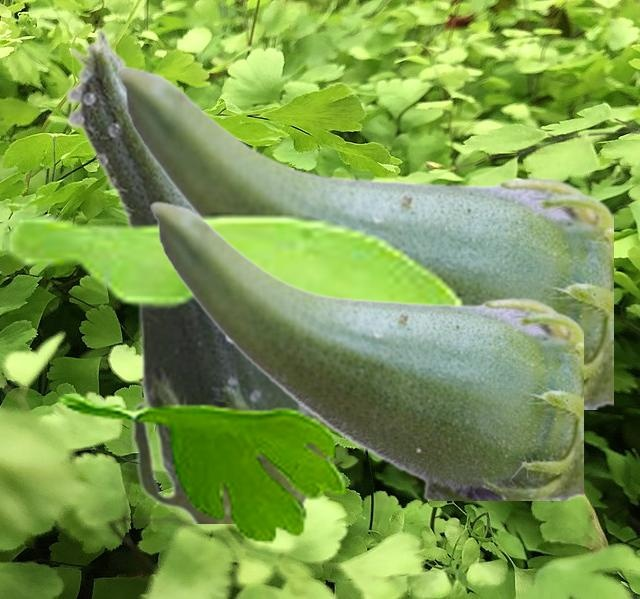okra: (115, 65, 612, 408), (149, 200, 582, 499), (64, 27, 324, 522)
